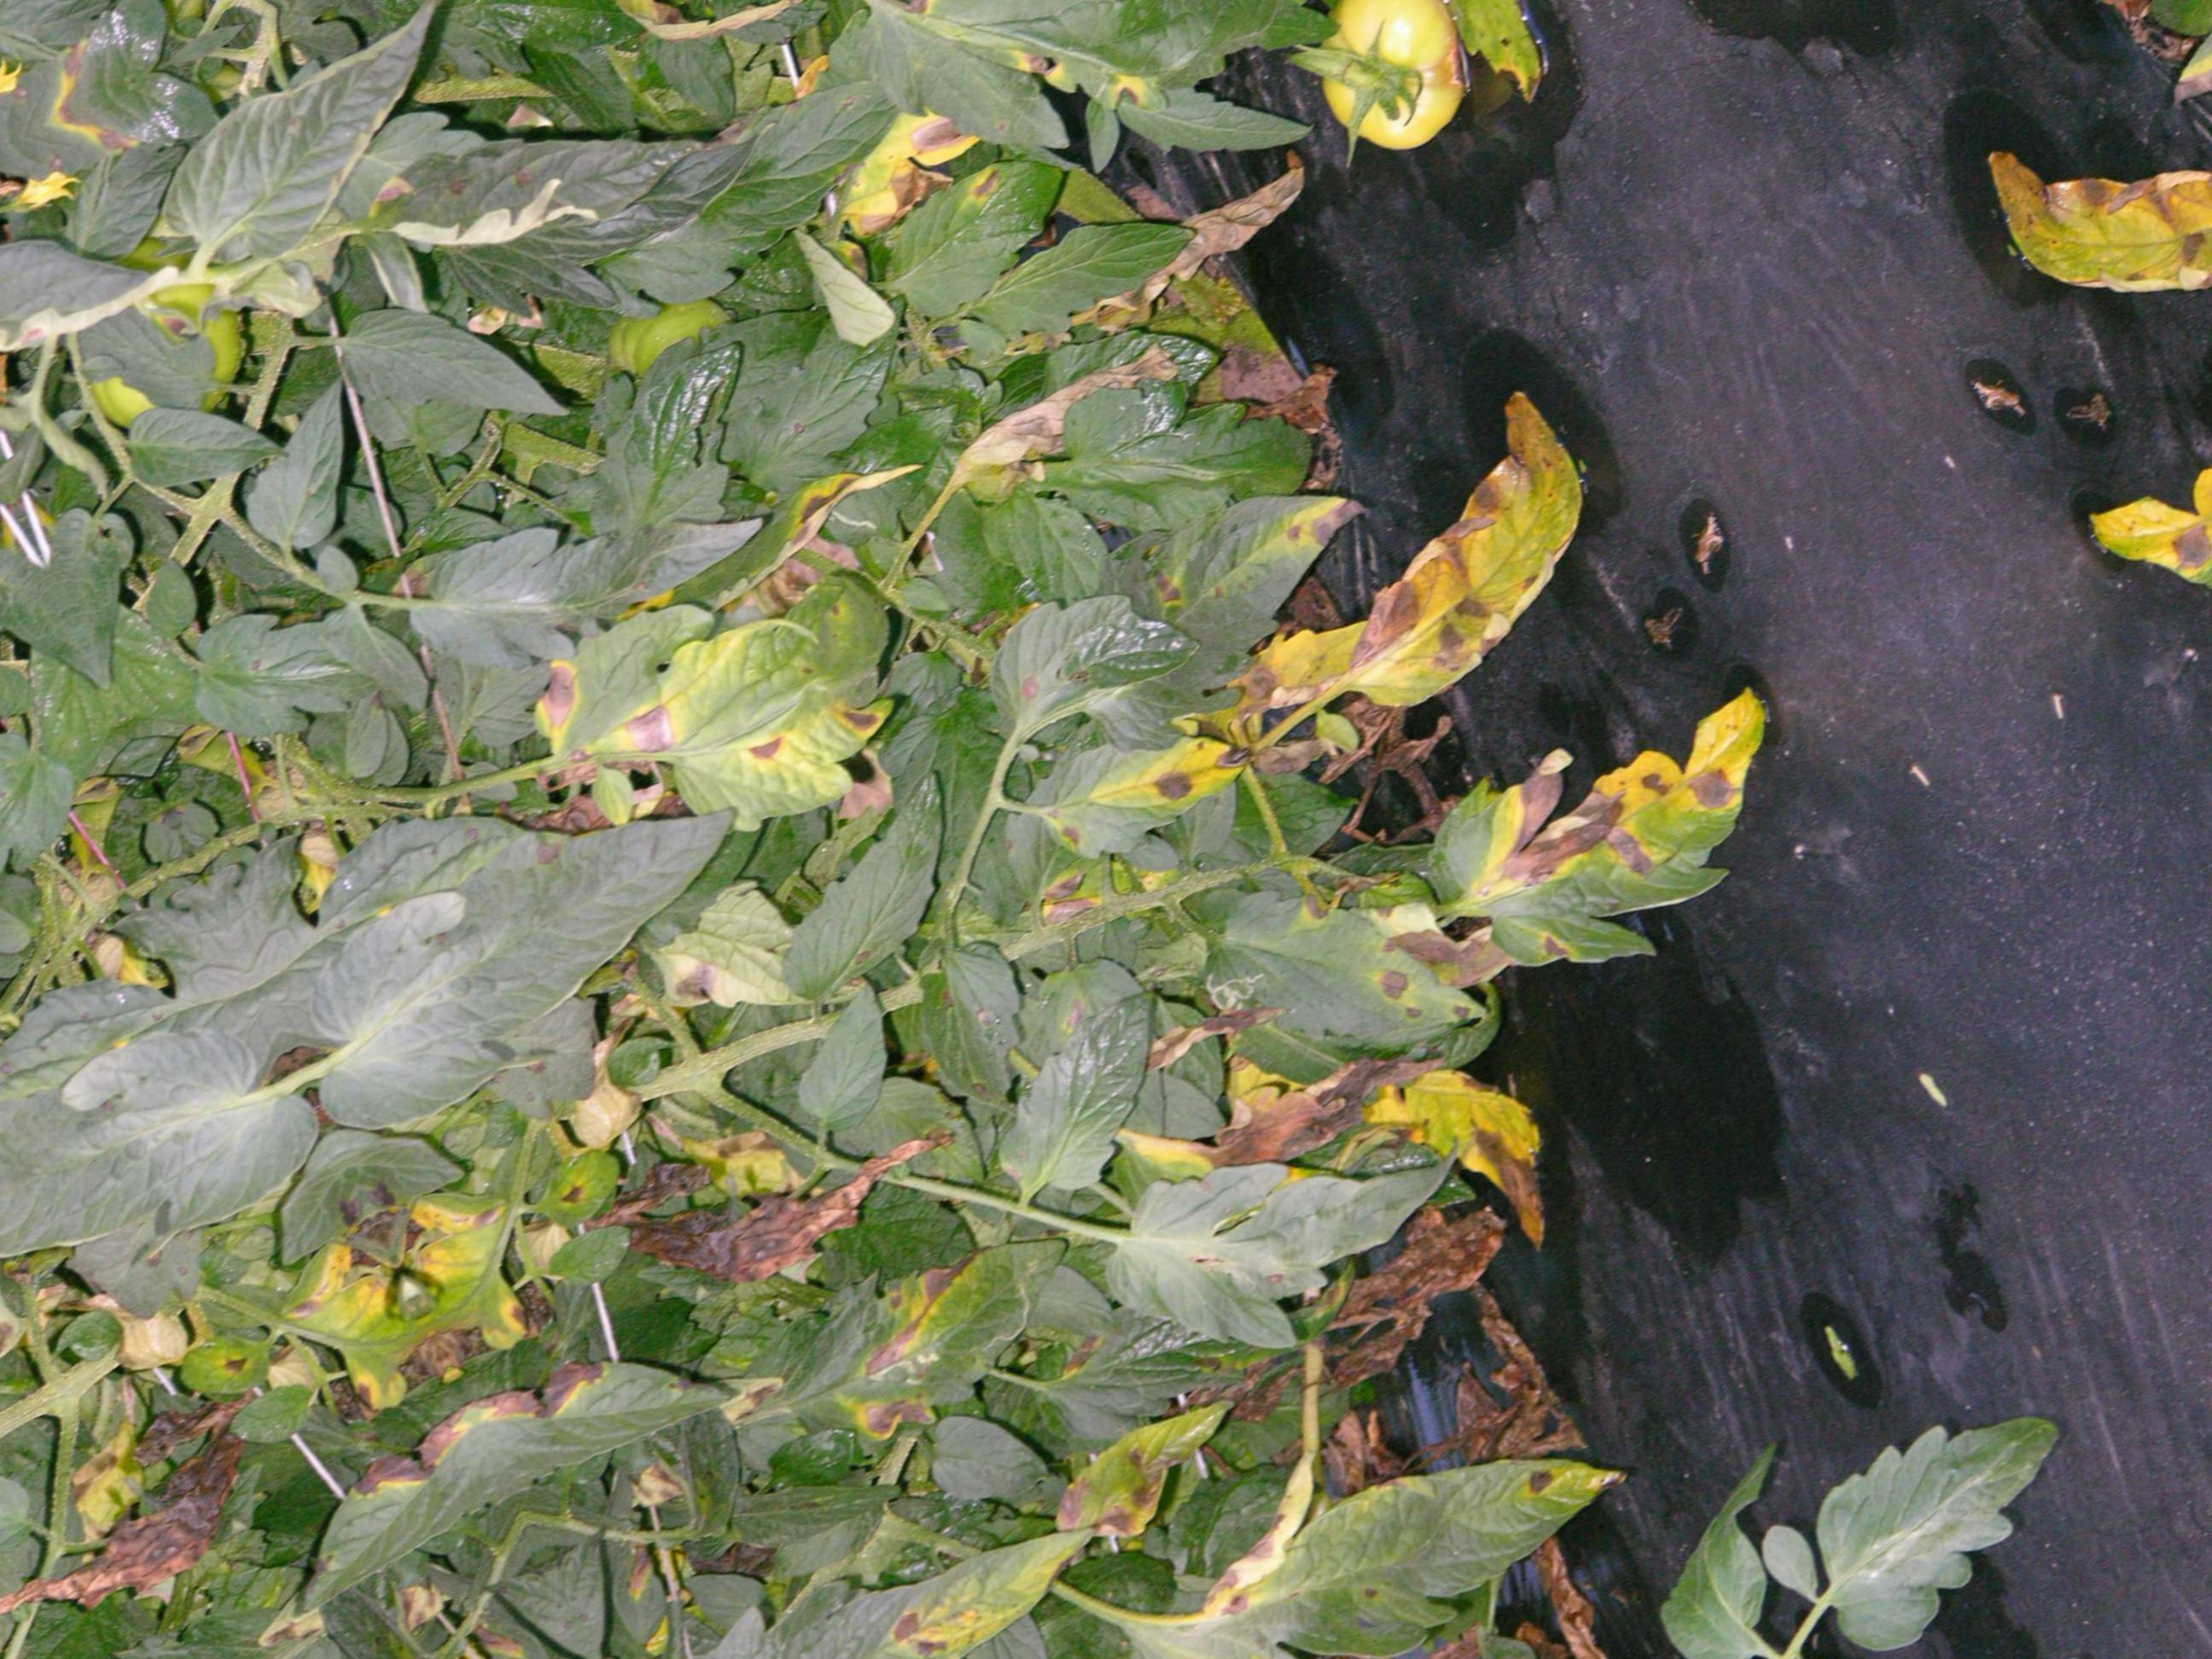Tomato Early blight leaf: (1224, 342, 1735, 775), (1050, 1363, 1669, 1659), (1402, 634, 1857, 1002), (594, 1431, 1144, 1659), (134, 9, 489, 284), (627, 554, 939, 859), (733, 765, 1021, 1028), (845, 103, 1141, 355), (996, 680, 1263, 885), (1024, 1382, 1256, 1582), (986, 0, 1505, 70)
Tomato leaf: (700, 1180, 1108, 1493), (1756, 1356, 2113, 1659), (413, 443, 791, 704), (388, 1094, 660, 1366), (949, 974, 1228, 1225), (341, 272, 564, 490), (216, 361, 415, 570)
